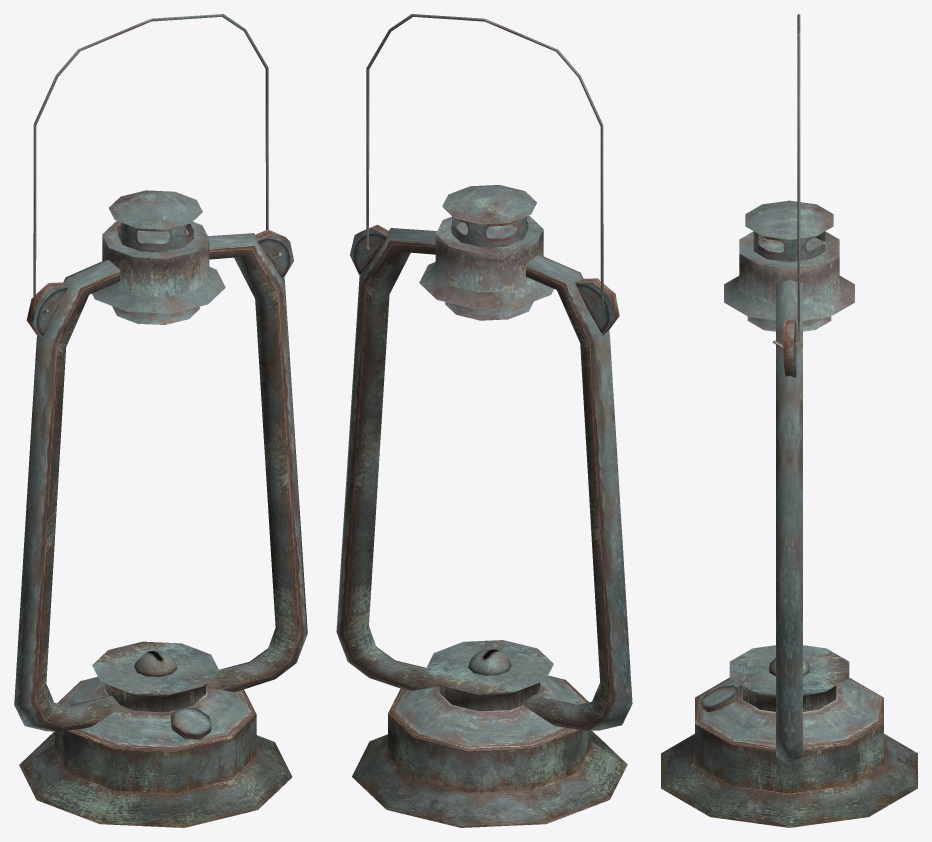
File: GasLantern.FBX
The picture shows the model from 3 angles, left to right: view 1: azimuth 30°, elevation 25°; view 2: azimuth 150°, elevation 25°; view 3: azimuth 270°, elevation 25°; orthographic projection. The views are drawn at different scales.
Visible parts, largest first — view 1: GasLantern, GasLanternHold; view 2: GasLantern, GasLanternHold; view 3: GasLantern, GasLanternHold.
Part boxes in pixels (x1,y1,x2,y2): GasLantern: (14,190,307,827); GasLanternHold: (33,14,281,314); GasLantern: (336,185,632,827); GasLanternHold: (366,14,616,307); GasLantern: (661,200,917,827); GasLanternHold: (772,14,800,348).
Bounding box in the file's own units: 208 × 506 × 160.
